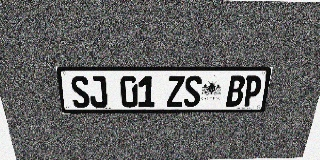0: (120, 76, 138, 107)
1: (138, 76, 155, 107)
B: (226, 76, 246, 106)
J: (88, 76, 108, 108)
P: (242, 76, 263, 106)
S: (69, 76, 91, 108), (183, 76, 202, 107)
Z: (167, 76, 184, 107)
